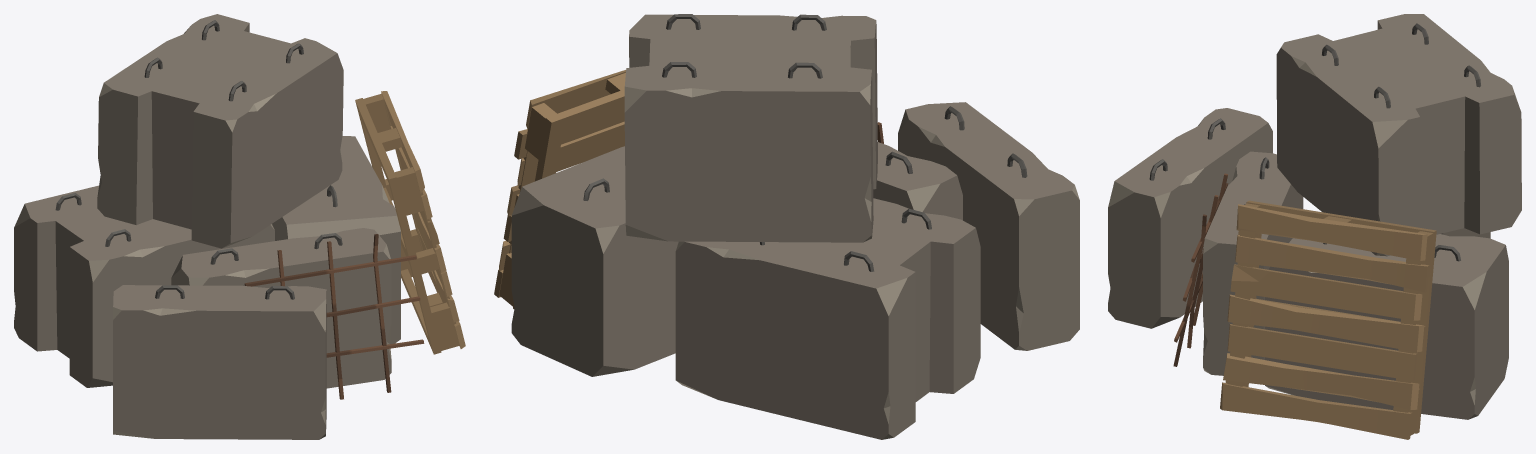
Rendered from SM_Prop_Concrete_Slab_Pile_02.fbx.
3 views of the same model, side by side, from view 1: azimuth 30°, elevation 25°; view 2: azimuth 150°, elevation 25°; view 3: azimuth 270°, elevation 25° (orthographic). The views are drawn at different scales.
Visible parts, largest first — view 1: SM_Prop_Concrete_Slab_Pile_02; view 2: SM_Prop_Concrete_Slab_Pile_02; view 3: SM_Prop_Concrete_Slab_Pile_02.
Part boxes in pixels (bbox=[...]): SM_Prop_Concrete_Slab_Pile_02: bbox=[14, 14, 465, 439]; SM_Prop_Concrete_Slab_Pile_02: bbox=[494, 14, 1079, 439]; SM_Prop_Concrete_Slab_Pile_02: bbox=[1108, 14, 1521, 439].
Size of the model in its own units: 334 by 214 by 283.
